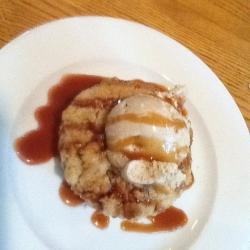apple_pie: (39, 81, 201, 221)
icecream: (105, 98, 197, 196)
